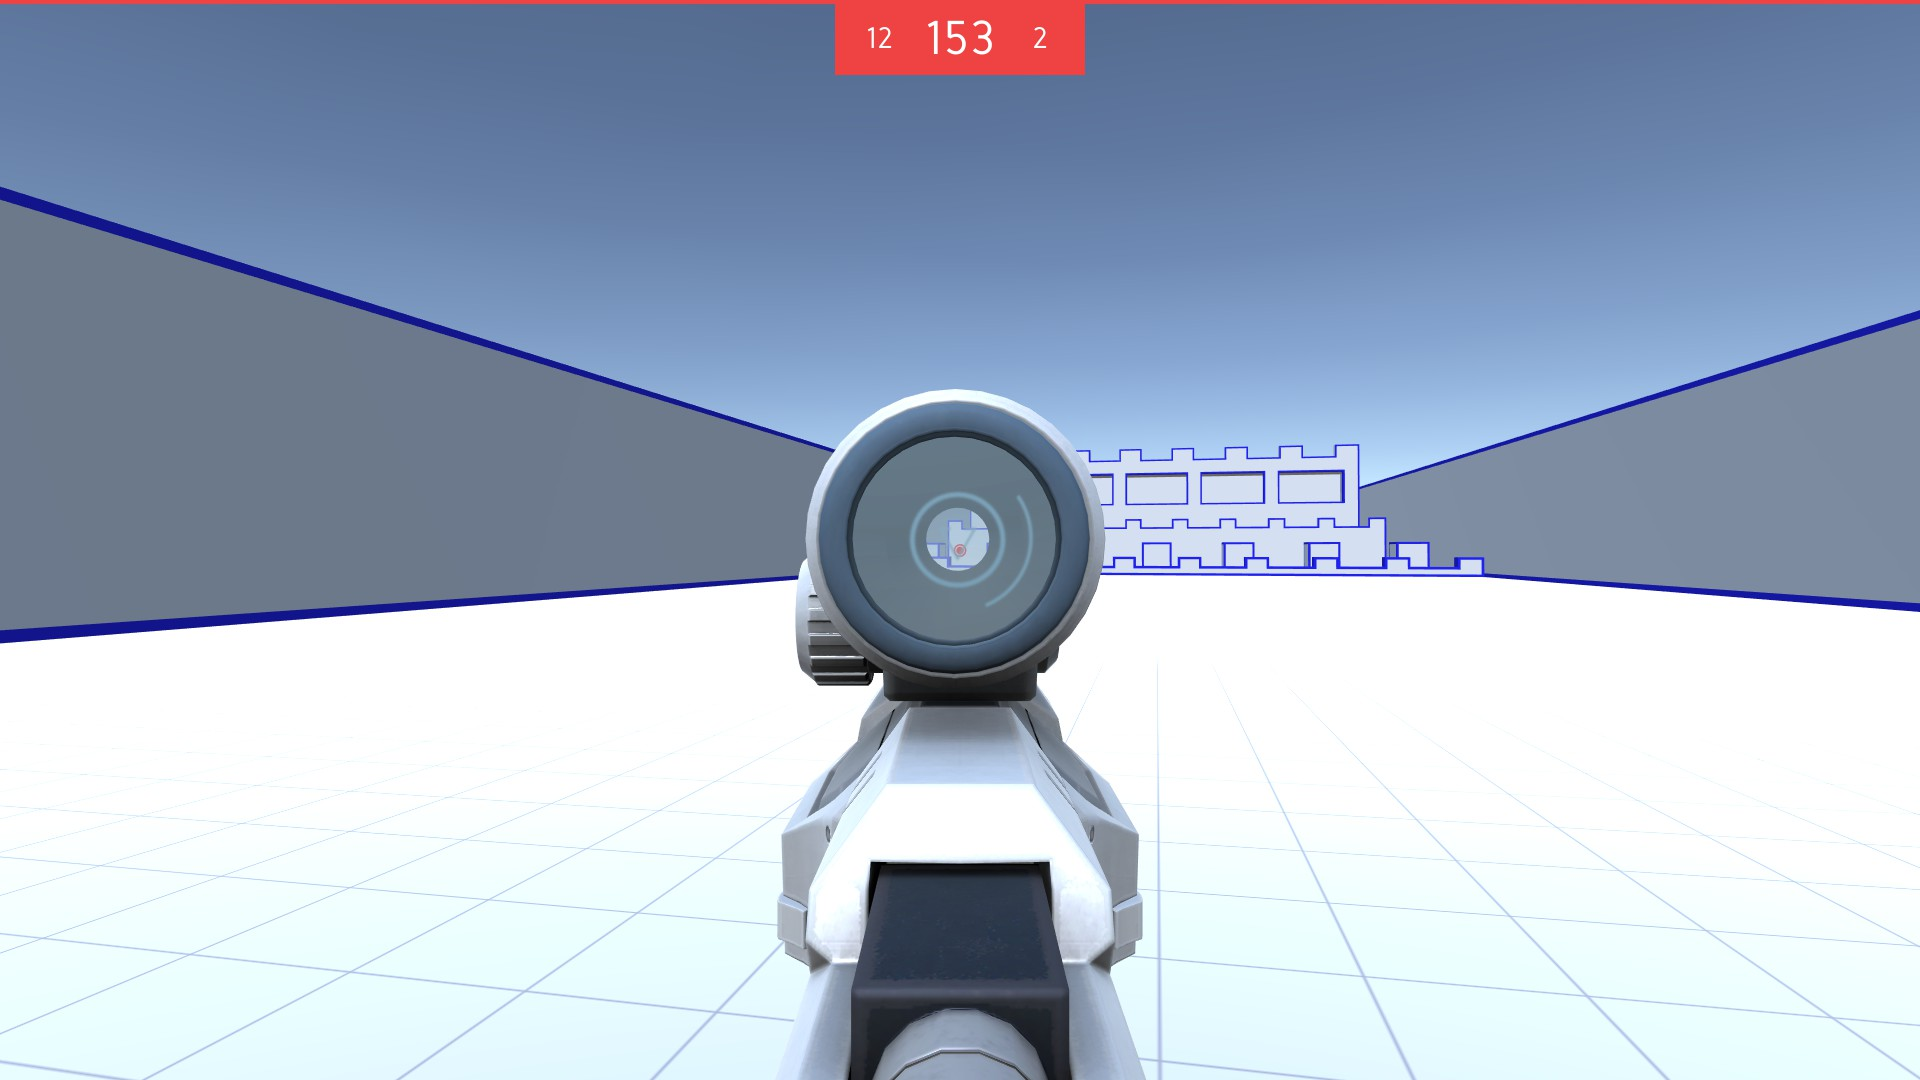target: (953, 543, 968, 556)
